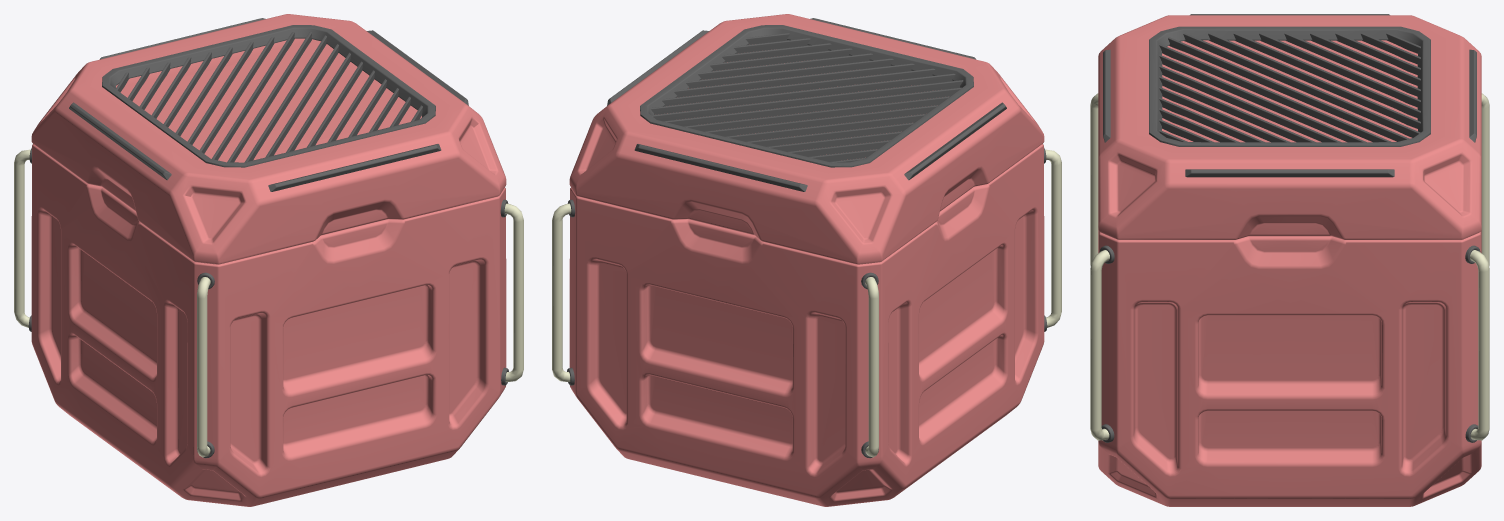
Rendered from Crate_Obstacle.fbx.
3 renders of one model, left to right at view 1: azimuth 30°, elevation 25°; view 2: azimuth 150°, elevation 25°; view 3: azimuth 270°, elevation 25°, orthographic. The views are drawn at different scales.
Visible parts, largest first — view 1: crate; view 2: crate; view 3: crate.
Part boxes in pixels (bbox=[...]): crate: bbox=[14, 14, 523, 506]; crate: bbox=[552, 14, 1061, 506]; crate: bbox=[1090, 14, 1489, 506].
Bounding box in the file's own units: 4.19 × 4.04 × 4.19.
